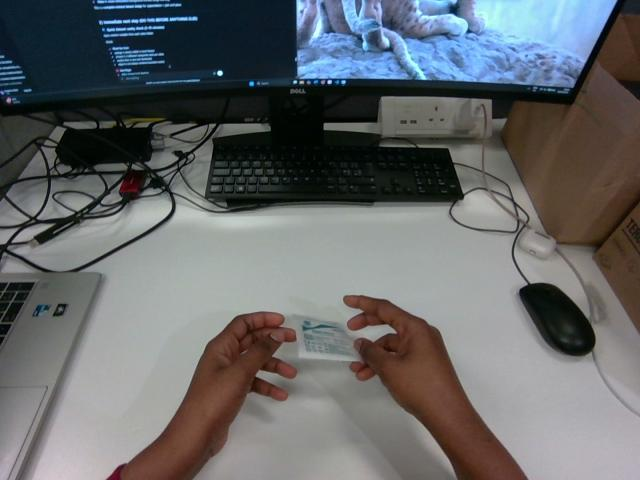gauze: (291, 315, 360, 360)
